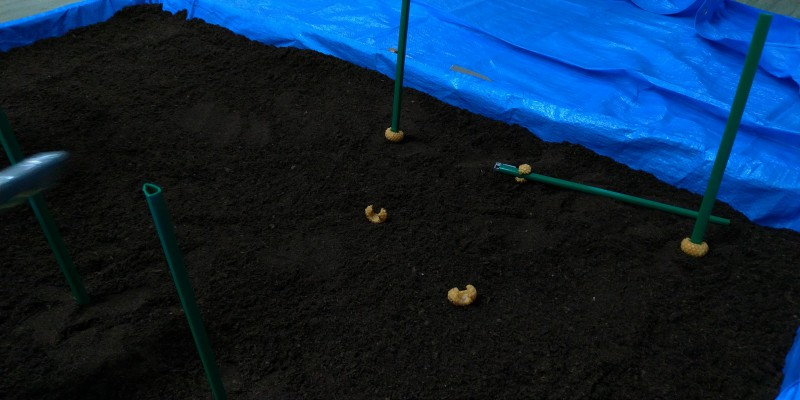eggs: (439, 277, 481, 307), (356, 201, 398, 226), (676, 230, 709, 259), (378, 120, 411, 147), (514, 158, 534, 185)
